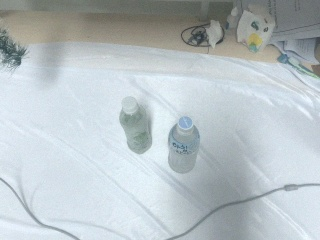bottle: (118, 95, 154, 154), (167, 116, 201, 174)
box: (236, 1, 277, 53)
